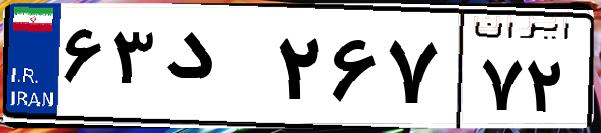2: (270, 28, 330, 110), (525, 38, 570, 115)
3: (110, 28, 158, 98)
6: (330, 28, 385, 110), (57, 26, 110, 100)
7: (385, 28, 445, 110), (475, 38, 525, 113)
د: (158, 20, 270, 120)
